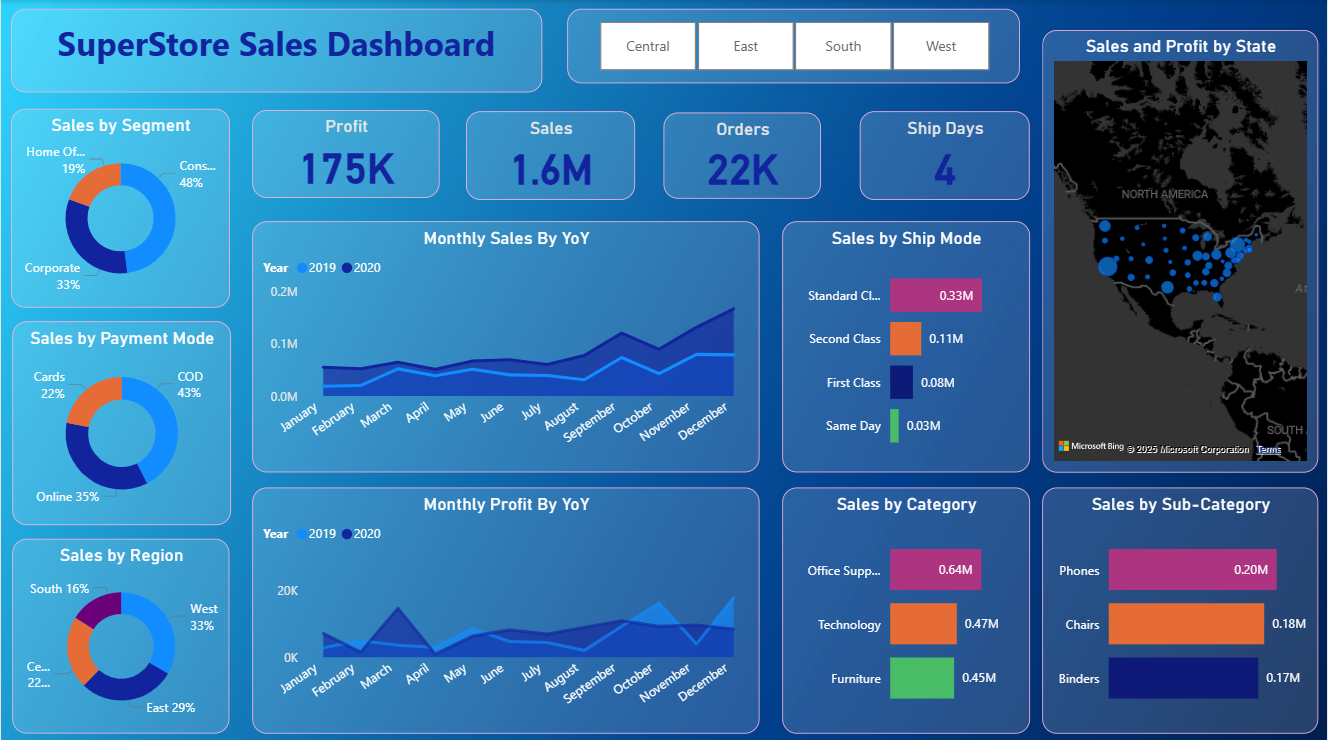

The dashboard page shown, as its layout file describes it:
{"tool":"powerbi","page":{"name":"Sales Dashboard","canvas":[1280,720],"ordinal":0},"visuals":[{"type":"clusteredBarChart","title":"Sales by Category","fields":{"Category":["SuperStore_Sales_Dataset.Category"],"Y":["Sum(SuperStore_Sales_Dataset.Sales)"]},"box":[754,470.5,238.9,237.7],"z":0},{"type":"clusteredBarChart","title":"Sales by Sub-Category","fields":{"Category":["SuperStore_Sales_Dataset.Sub-Category"],"Y":["Sum(SuperStore_Sales_Dataset.Sales)"]},"box":[1005,470.5,266.6,237.7],"z":1000},{"type":"clusteredBarChart","title":"Sales by Ship Mode","fields":{"Category":["SuperStore_Sales_Dataset.Ship Mode"],"Y":["Sum(SuperStore_Sales_Dataset.Sales)"]},"box":[754,213.5,238.9,242.5],"z":2000},{"type":"areaChart","title":" Monthly Sales By YoY","fields":{"Y":["Sum(SuperStore_Sales_Dataset.Sales)"],"Category":["SuperStore_Sales_Dataset.Order Date.Variation.Date Hierarchy.Month","SuperStore_Sales_Dataset.Order Date.Variation.Date Hierarchy.Day"],"Series":["SuperStore_Sales_Dataset.Order Date.Variation.Date Hierarchy.Year"]},"box":[242.5,213.5,489.8,242.5],"z":3000},{"type":"areaChart","title":" Monthly Profit By YoY","fields":{"Category":["SuperStore_Sales_Dataset.Order Date.Variation.Date Hierarchy.Month"],"Series":["SuperStore_Sales_Dataset.Order Date.Variation.Date Hierarchy.Year"],"Y":["Sum(SuperStore_Sales_Dataset.Profit)"]},"box":[242.5,470.5,489.8,237.7],"z":4000},{"type":"map","title":" Sales and  Profit by State","fields":{"Category":["SuperStore_Sales_Dataset.State"],"Size":["Sum(SuperStore_Sales_Dataset.Sales)"]},"box":[1005,29,266.6,427.1],"z":5000},{"type":"donutChart","title":"Sales by Segment","fields":{"Category":["SuperStore_Sales_Dataset.Segment"],"Y":["Sum(SuperStore_Sales_Dataset.Sales)"]},"box":[9.7,105,211.1,191.8],"z":6000},{"type":"donutChart","title":"Sales by Payment Mode","fields":{"Category":["SuperStore_Sales_Dataset.Payment Mode"],"Y":["Sum(SuperStore_Sales_Dataset.Sales)"]},"box":[10.9,310.1,211.1,196.6],"z":7000},{"type":"slicer","fields":{"Values":["SuperStore_Sales_Dataset.Region"]},"box":[546.5,8.4,436.7,72.4],"z":8000},{"type":"textbox","box":[9.7,8.4,512.7,80.8],"z":9000},{"type":"card","title":"Sales","fields":{"Values":["Sum(SuperStore_Sales_Dataset.Sales)"]},"box":[448.9,107.8,163.3,85.6],"z":10000},{"type":"card","title":"Orders","fields":{"Values":["Sum(SuperStore_Sales_Dataset.Quantity)"]},"box":[639.4,108.6,152,83.2],"z":11000},{"type":"card","title":"Profit","fields":{"Values":["Sum(SuperStore_Sales_Dataset.Profit)"]},"box":[242.5,106.2,181,84.5],"z":12000},{"type":"card","title":"Ship Days","fields":{"Values":["Avg(SuperStore_Sales_Dataset.AvgDelivery)"]},"box":[828.8,107.4,164.1,85.7],"z":13000},{"type":"donutChart","title":"Sales by Region","fields":{"Category":["SuperStore_Sales_Dataset.Region"],"Y":["Sum(SuperStore_Sales_Dataset.Sales)"]},"box":[10.9,520,209.9,188.2],"z":14000}]}

Visuals, with their boxes in screenshot pixels (x1, y1, x2, y2), scaled from the page's 1280x720 canvas onto the 1328x740 screenshot:
"Sales by Category" clusteredBarChart: bbox=(782, 484, 1030, 728)
"Sales by Sub-Category" clusteredBarChart: bbox=(1043, 484, 1319, 728)
"Sales by Ship Mode" clusteredBarChart: bbox=(782, 219, 1030, 469)
" Monthly Sales By YoY" areaChart: bbox=(252, 219, 760, 469)
" Monthly Profit By YoY" areaChart: bbox=(252, 484, 760, 728)
" Sales and  Profit by State" map: bbox=(1043, 30, 1319, 469)
"Sales by Segment" donutChart: bbox=(10, 108, 229, 305)
"Sales by Payment Mode" donutChart: bbox=(11, 319, 230, 521)
slicer - SuperStore_Sales_Dataset.Region: bbox=(567, 9, 1020, 83)
textbox: bbox=(10, 9, 542, 92)
"Sales" card: bbox=(466, 111, 635, 199)
"Orders" card: bbox=(663, 112, 821, 197)
"Profit" card: bbox=(252, 109, 439, 196)
"Ship Days" card: bbox=(860, 110, 1030, 198)
"Sales by Region" donutChart: bbox=(11, 534, 229, 728)
